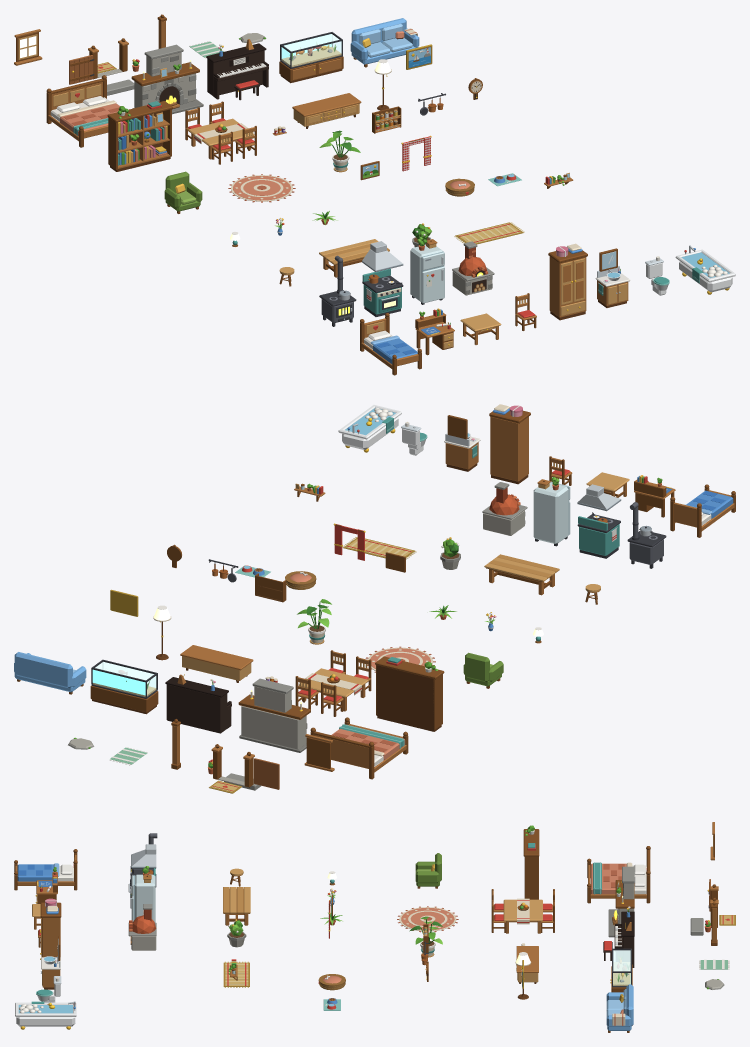
The model's file is furniture.glb.
3 views of the same model, one above another, from view 1: azimuth 30°, elevation 25°; view 2: azimuth 150°, elevation 25°; view 3: azimuth 270°, elevation 25° (orthographic). The views are drawn at different scales.
Parts seen in each view (by area): view 1: Furn_bookcase, Furn_fireplace, Furn_bed_double, Furn_piano, Furn_wardrobe, Furn_aquarium, Furn_dining_set, Furn_big_stove, Furn_sofa, Furn_fridge, Furn_bed_single, Furn_room_entry (+15 smaller); view 2: Furn_bookcase, Furn_fireplace, Furn_piano, Furn_wardrobe, Furn_aquarium, Furn_bed_double, Furn_dining_set, Furn_big_stove, Furn_fridge, Furn_room_entry, Furn_sofa, Furn_bed_single (+13 smaller); view 3: Furn_bed_double, Furn_dining_set, Furn_bathtub, Furn_bed_single, Furn_sofa, Furn_wardrobe, Furn_bookcase, Furn_fireplace, Furn_rug_round, Furn_fridge, Furn_oven, Furn_table_wood (+13 smaller).
Boxes of the visible parts, box(x1,y1,x2,y2) form: Furn_bookcase: box(107, 101, 172, 171); Furn_fireplace: box(131, 44, 203, 114); Furn_bed_double: box(46, 75, 119, 147); Furn_piano: box(206, 39, 268, 100); Furn_wardrobe: box(548, 243, 587, 320); Furn_aquarium: box(279, 32, 343, 83); Furn_dining_set: box(185, 101, 256, 164); Furn_big_stove: box(362, 241, 403, 316); Furn_sofa: box(350, 18, 419, 67); Furn_fridge: box(410, 237, 444, 304); Furn_bed_single: box(360, 313, 421, 375); Furn_room_entry: box(69, 38, 139, 95); Furn_bookcase: box(375, 656, 444, 731); Furn_fireplace: box(238, 678, 310, 752); Furn_piano: box(165, 674, 231, 733); Furn_wardrobe: box(489, 404, 530, 484); Furn_aquarium: box(90, 659, 158, 714); Furn_bed_double: box(310, 717, 408, 779); Furn_dining_set: box(295, 650, 371, 716); Furn_big_stove: box(577, 484, 621, 558); Furn_fridge: box(533, 477, 570, 546); Furn_room_entry: box(208, 744, 279, 793); Furn_sofa: box(14, 652, 86, 694); Furn_bed_single: box(670, 484, 735, 537); Furn_bed_double: box(587, 846, 650, 903); Furn_dining_set: box(491, 889, 554, 933); Furn_bathtub: box(15, 1001, 76, 1029); Furn_bed_single: box(14, 849, 77, 890); Furn_sofa: box(606, 984, 633, 1032); Furn_wardrobe: box(40, 898, 61, 959); Furn_bookcase: box(523, 825, 539, 899); Furn_fireplace: box(608, 866, 634, 937); Furn_rug_round: box(397, 906, 458, 932); Furn_fridge: box(130, 866, 155, 922); Furn_oven: box(128, 904, 156, 950); Furn_table_wood: box(223, 887, 250, 925).
Bounding box in the file's own units: 11.72 × 2.43 × 22.68.
